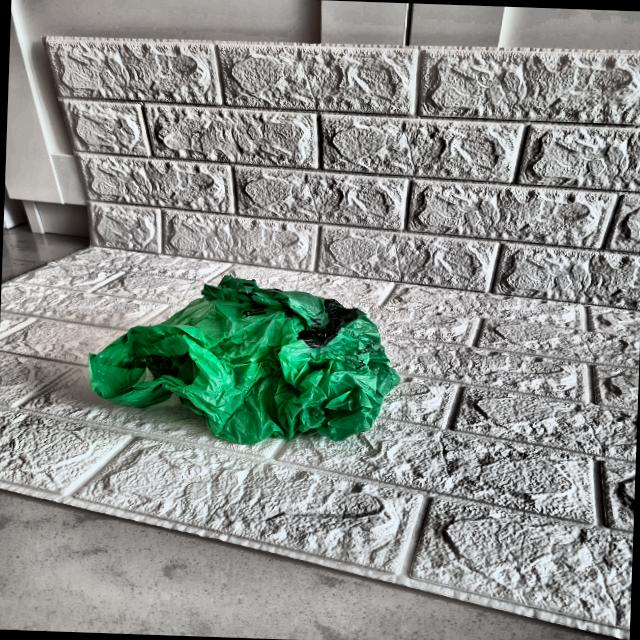plastic bag: (61, 260, 426, 455)
